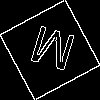M: (25, 25, 78, 81)
